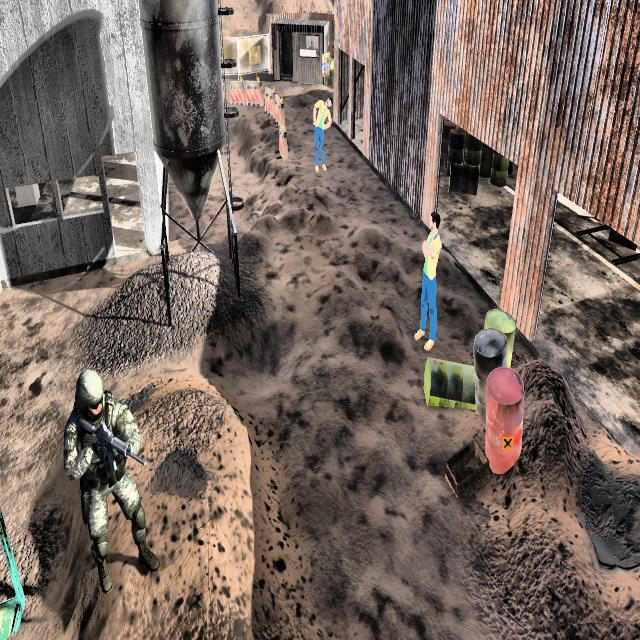bad: (56, 352, 166, 596)
good: (410, 202, 443, 352), (305, 89, 335, 174)
